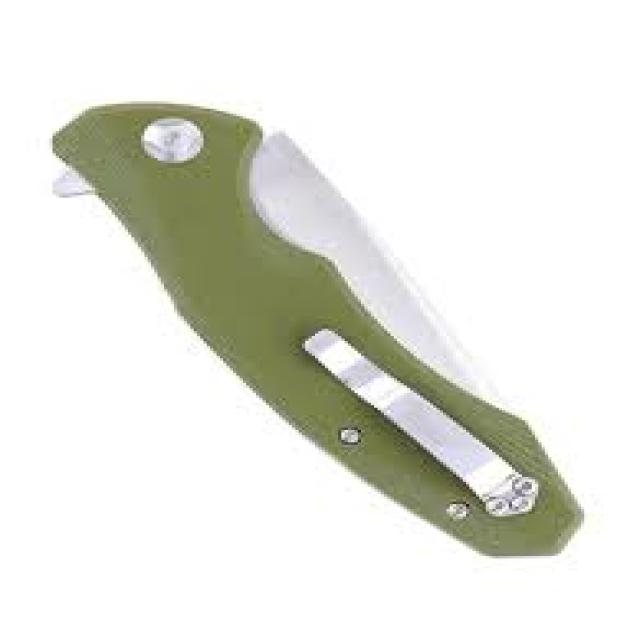knives: (46, 96, 587, 561)
